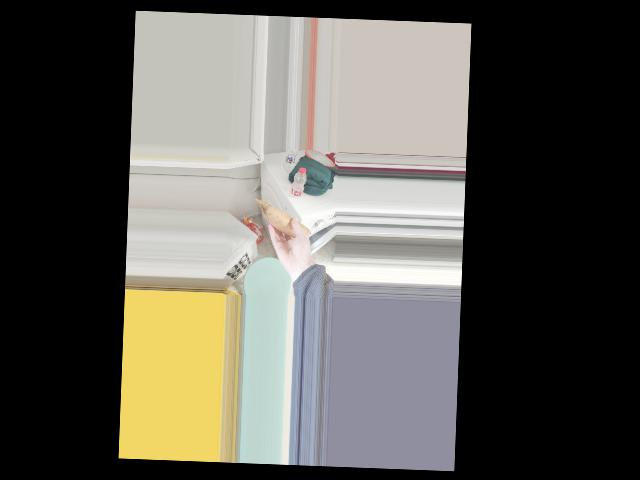sweet_potato: (268, 208, 305, 235)
